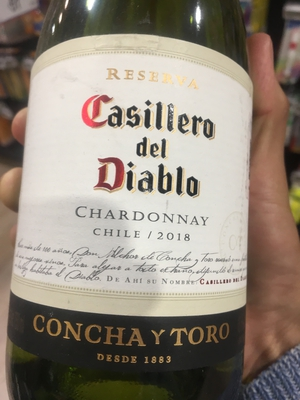casillero del diablo chardonnay: (14, 8, 258, 400)
